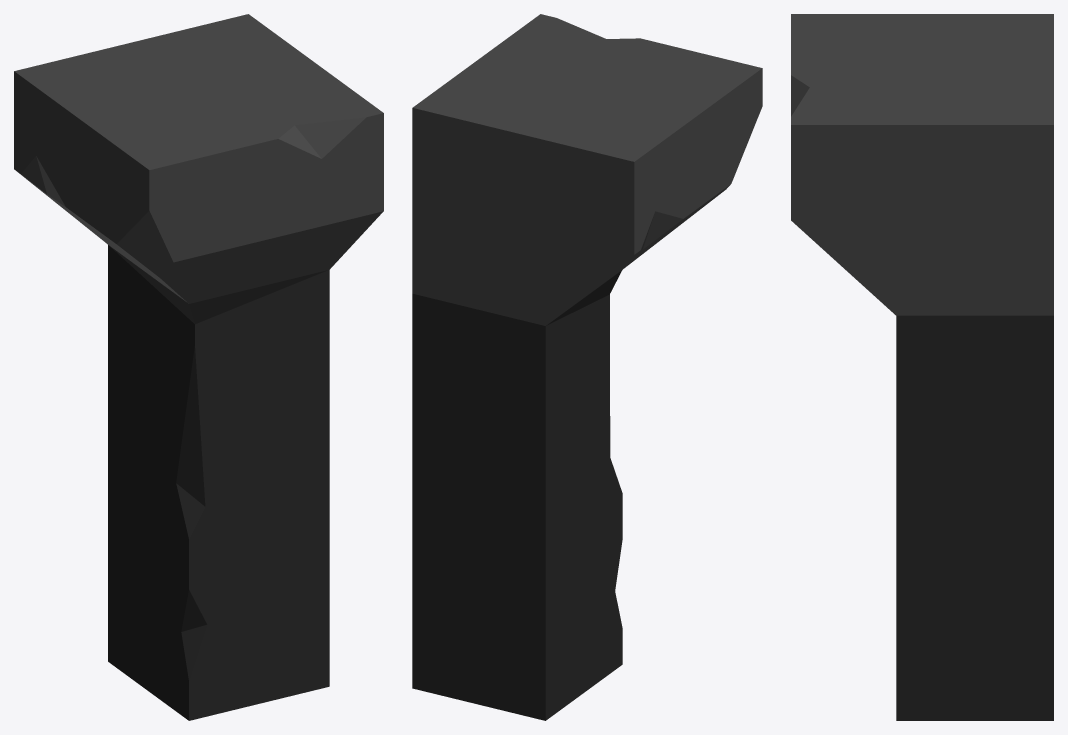
The model's file is SW_ENV_RailTunnel_Wall_Ledge_B_Crnr_02.fbx.
3 renders of one model, left to right at view 1: azimuth 30°, elevation 25°; view 2: azimuth 150°, elevation 25°; view 3: azimuth 270°, elevation 25°, orthographic. The views are drawn at different scales.
Visible parts, largest first — view 1: SW_ENV_RailTunnel_Wall_Ledge_B_Crnr_02; view 2: SW_ENV_RailTunnel_Wall_Ledge_B_Crnr_02; view 3: SW_ENV_RailTunnel_Wall_Ledge_B_Crnr_02.
Boxes of the visible parts, left/top/right/bottom form: SW_ENV_RailTunnel_Wall_Ledge_B_Crnr_02: left=14, top=14, right=383, bottom=720; SW_ENV_RailTunnel_Wall_Ledge_B_Crnr_02: left=412, top=14, right=762, bottom=720; SW_ENV_RailTunnel_Wall_Ledge_B_Crnr_02: left=791, top=14, right=1053, bottom=720.
Size of the model in its own units: 0.5 by 1.25 by 0.5.
